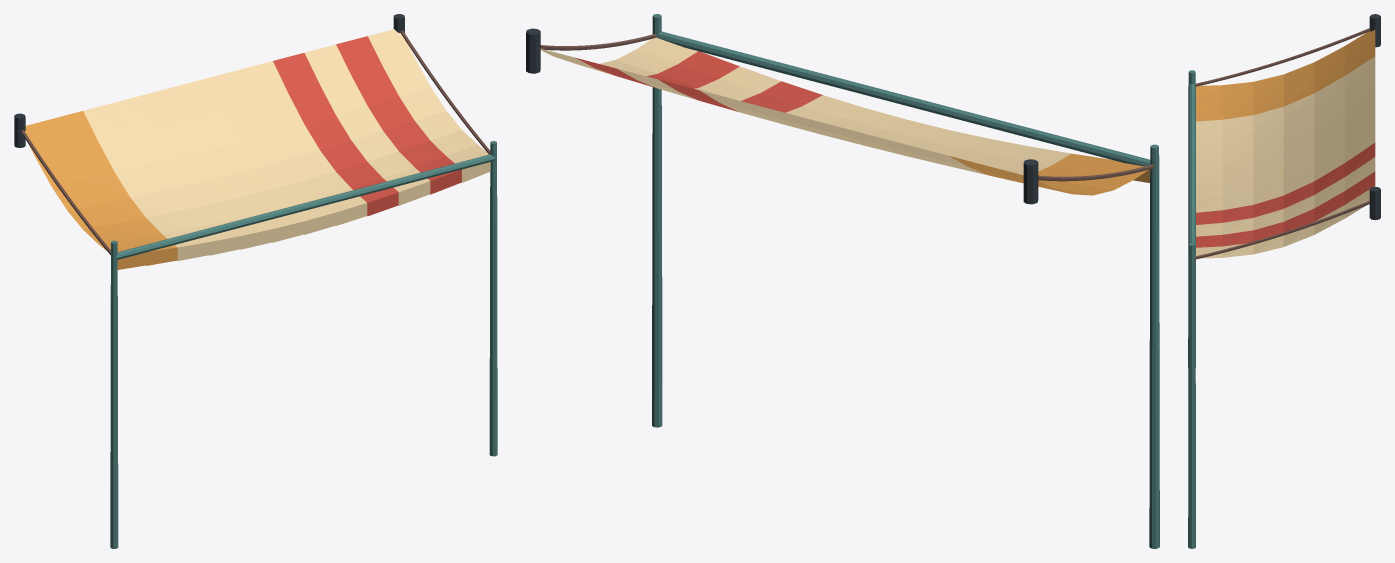
File: ReceivingAwning.gltf
3 renders of one model, left to right at view 1: azimuth 30°, elevation 25°; view 2: azimuth 150°, elevation 25°; view 3: azimuth 270°, elevation 25°, orthographic. The views are drawn at different scales.
Parts seen in each view (by area): view 1: Receiving awning, Bound valance, Canopy staves, Front spreader, Tension sides, Back cleats; view 2: Receiving awning, Canopy staves, Front spreader, Back cleats, Tension sides; view 3: Receiving awning, Canopy staves, Tension sides, Front spreader, Back cleats.
Part boxes in pixels (x1,y1,x2,y2): Receiving awning: [25, 29, 488, 251]; Bound valance: [117, 162, 490, 269]; Canopy staves: [110, 141, 497, 548]; Front spreader: [116, 154, 495, 259]; Tension sides: [21, 30, 490, 255]; Back cleats: [14, 14, 404, 147]; Receiving awning: [540, 37, 1148, 195]; Canopy staves: [652, 14, 1159, 548]; Front spreader: [656, 31, 1151, 169]; Back cleats: [526, 28, 1038, 204]; Tension sides: [540, 34, 1154, 181]; Receiving awning: [1196, 30, 1375, 258]; Canopy staves: [1188, 70, 1195, 548]; Tension sides: [1195, 28, 1370, 259]; Front spreader: [1188, 84, 1195, 258]; Back cleats: [1369, 14, 1380, 220].
Bounding box in the file's own units: 3.57 × 3.24 × 1.58.
